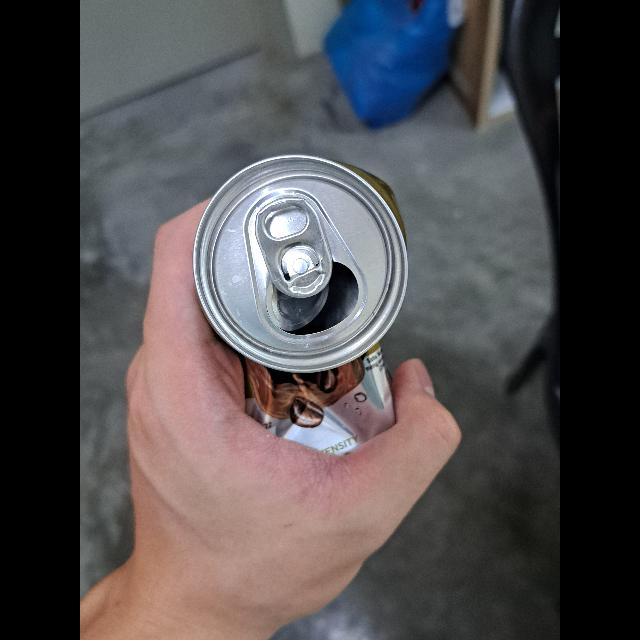aba de lata: (257, 196, 333, 298)
lata: (192, 156, 410, 454)
